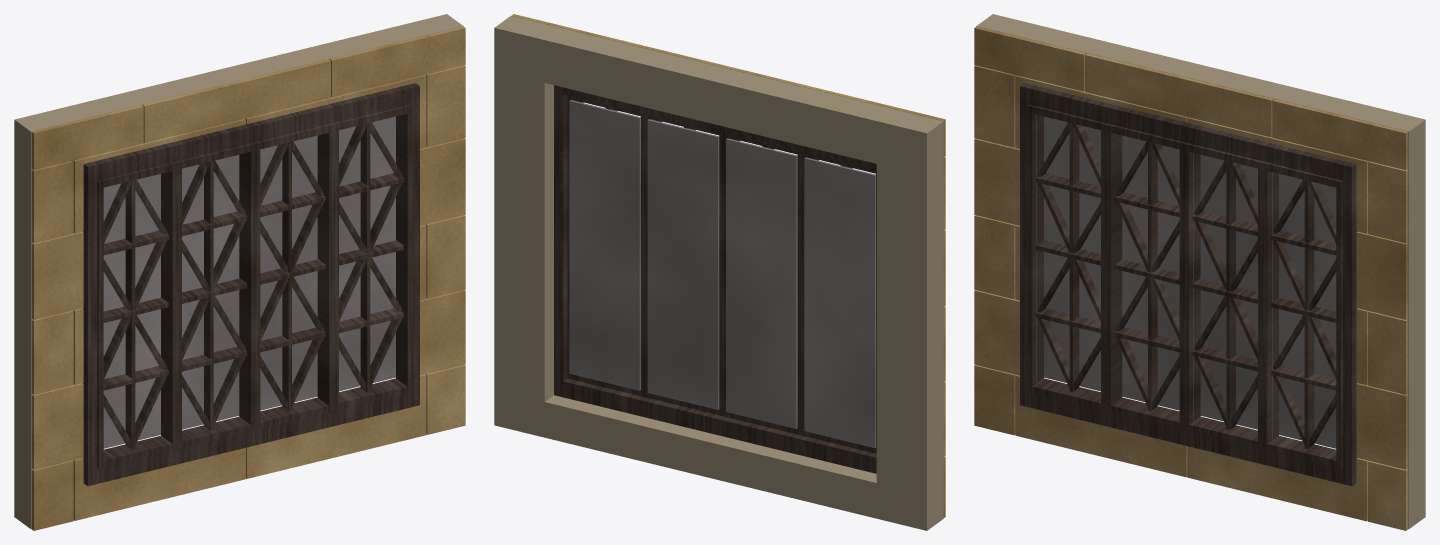
Rendered from jijing-north-four-chevron-sashes-far.glb.
3 renders of one model, left to right at view 1: azimuth 30°, elevation 25°; view 2: azimuth 150°, elevation 25°; view 3: azimuth 330°, elevation 25°, orthographic.
Visible parts, largest first — view 1: 高桥季景北路608至612号街屋的四联折线格窗; view 2: 高桥季景北路608至612号街屋的四联折线格窗; view 3: 高桥季景北路608至612号街屋的四联折线格窗.
Part boxes in pixels (left/top/right/bottom): 高桥季景北路608至612号街屋的四联折线格窗: left=14, top=14, right=465, bottom=530; 高桥季景北路608至612号街屋的四联折线格窗: left=494, top=14, right=945, bottom=530; 高桥季景北路608至612号街屋的四联折线格窗: left=974, top=14, right=1425, bottom=530.
Bounding box in the file's own units: 2.54 × 2.23 × 0.254.
Materials: 6 (4 with a texture image).
